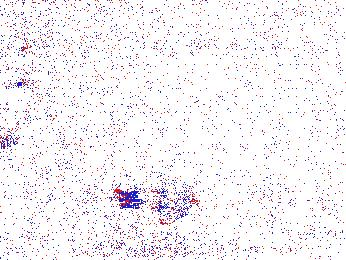flame jellyfish: (111, 174, 195, 227), (1, 47, 38, 151), (250, 172, 309, 227)
